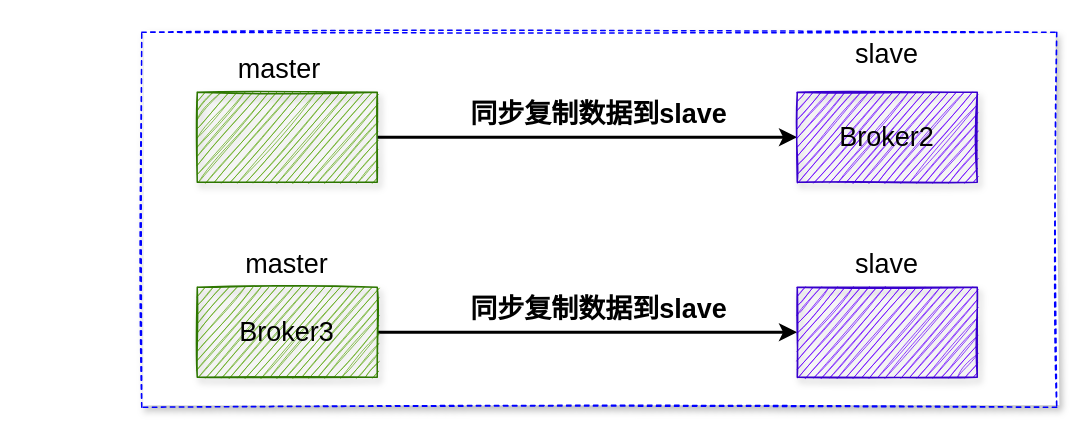
Image size: 1092x444. Some labels were removed from this diagram. Each missing label, with the centre of its shape:
"Broker1" belongs at point 288,139.
"Broker4" belongs at point 888,334.
